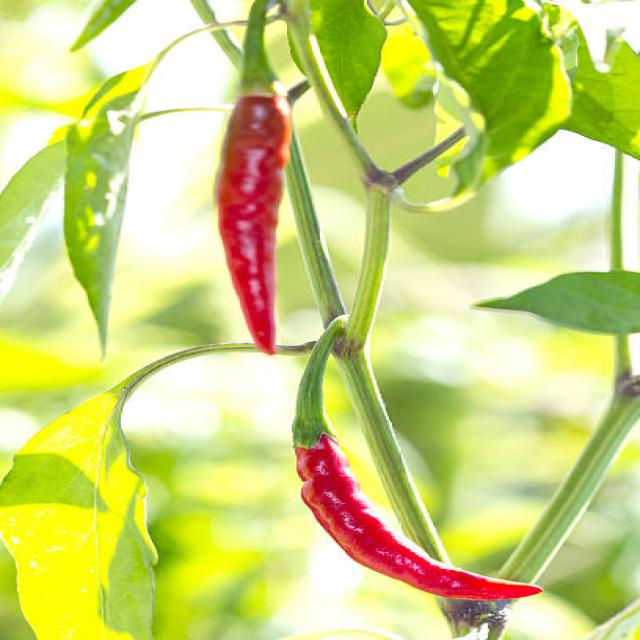Ripe: (296, 434, 538, 599), (216, 90, 293, 355)
